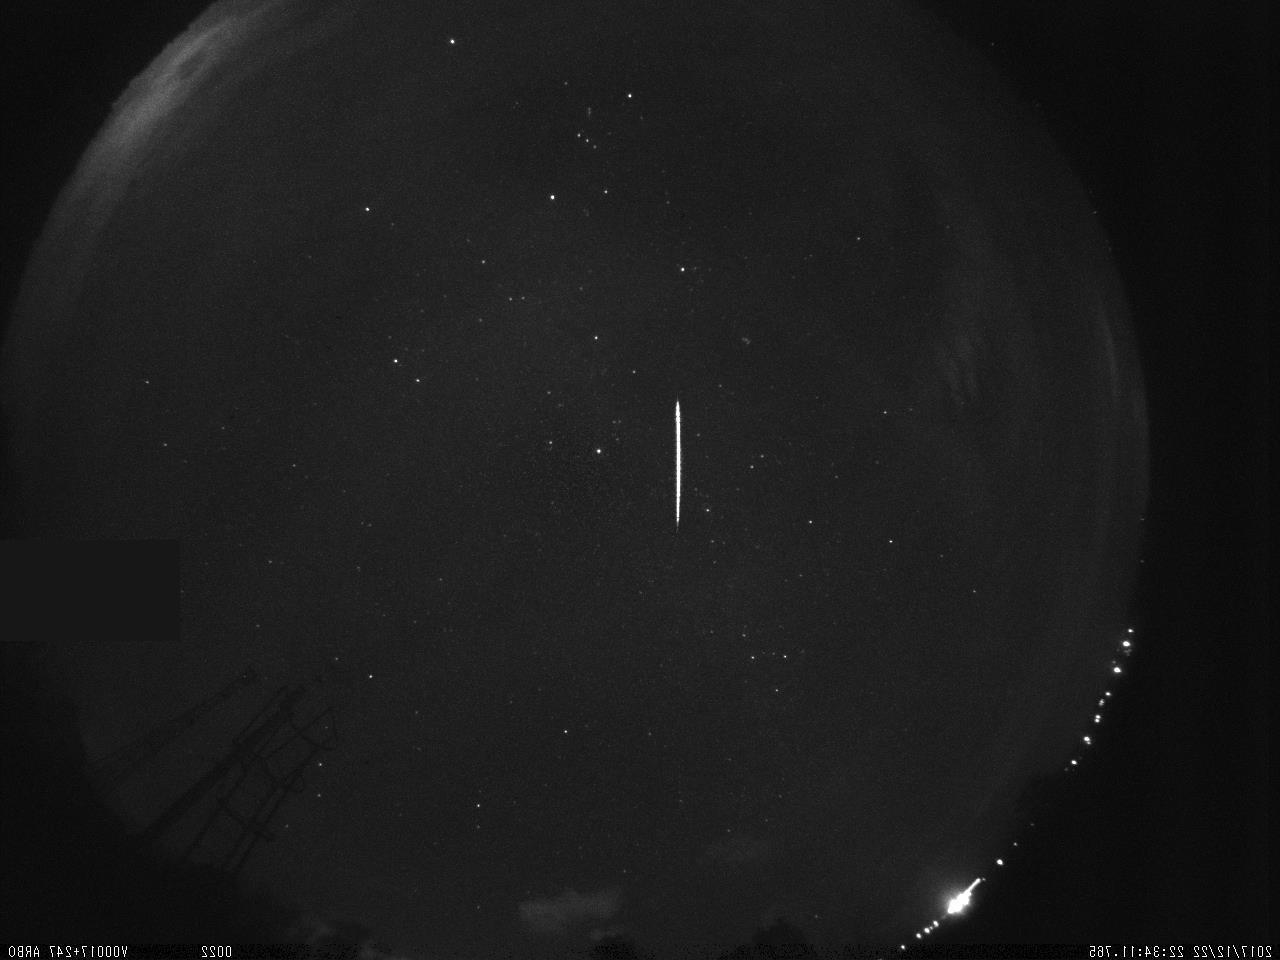meteor: (662, 391, 697, 543)
